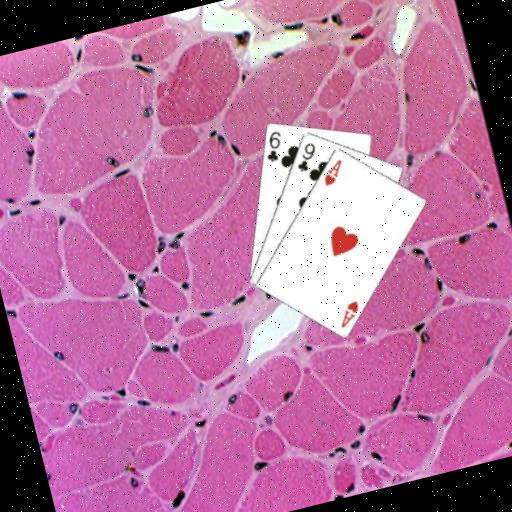6C: (258, 127, 289, 165)
9C: (289, 138, 322, 175)
AH: (316, 155, 348, 188), (332, 297, 364, 330)
